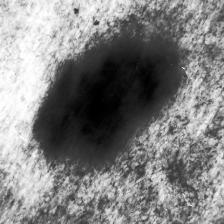Benign Marking or Mole: (38, 43, 176, 156)
